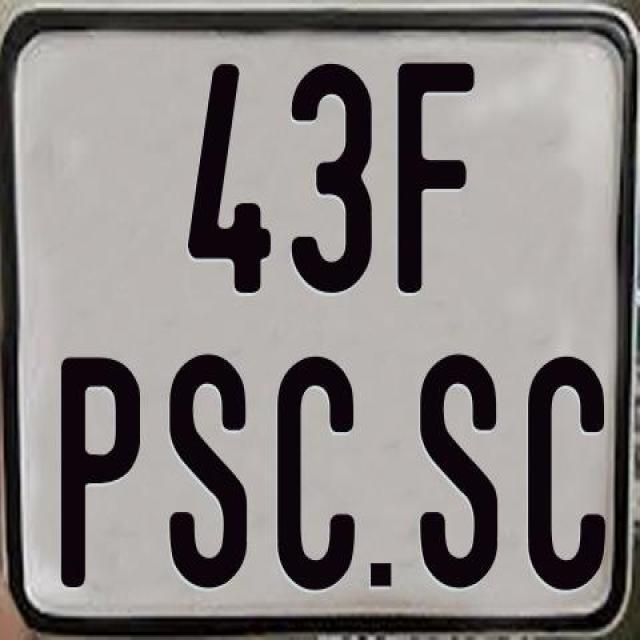3: (290, 62, 370, 292)
4: (186, 63, 272, 294)
C: (524, 352, 608, 595), (278, 355, 358, 595)
F: (396, 61, 480, 293)
P: (58, 355, 142, 592)
S: (416, 354, 500, 598), (168, 352, 247, 595)
